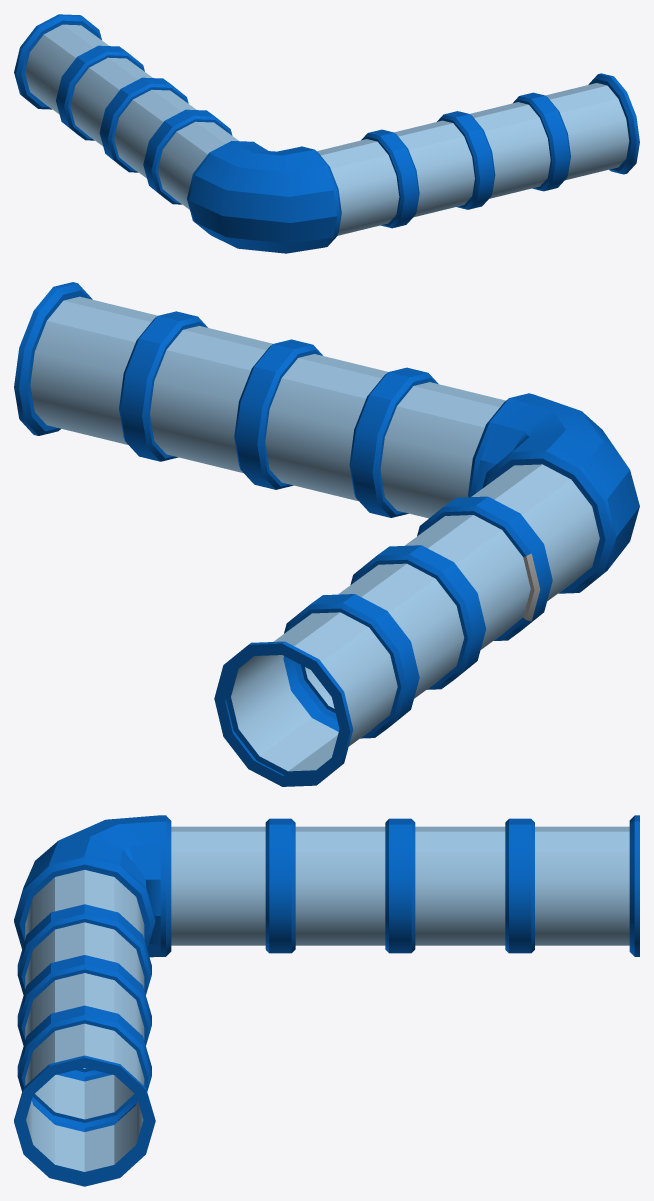
The model's file is Vent_Tubes_Curve.fbx.
3 views of the same model, one above another, from view 1: azimuth 30°, elevation 25°; view 2: azimuth 150°, elevation 25°; view 3: azimuth 270°, elevation 25° (orthographic). The views are drawn at different scales.
Parts seen in each view (by area): view 1: Vent_Tubes_Curve; view 2: Vent_Tubes_Curve; view 3: Vent_Tubes_Curve.
Boxes of the visible parts, x1,y1,x2,y2 form: Vent_Tubes_Curve: (14,14,639,253); Vent_Tubes_Curve: (14,282,639,786); Vent_Tubes_Curve: (14,815,639,1186).
Size of the model in its own units: 5.25 by 1.19 by 5.22.
